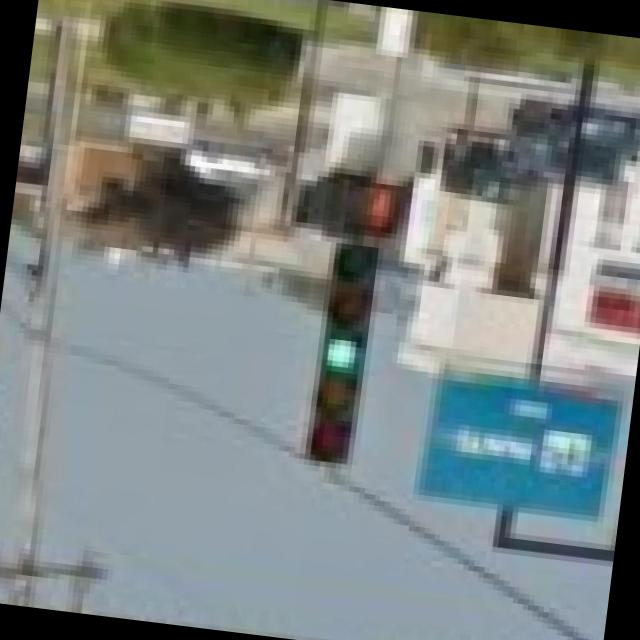green-lights: (315, 326, 370, 382)
red-lights: (362, 166, 406, 246)
